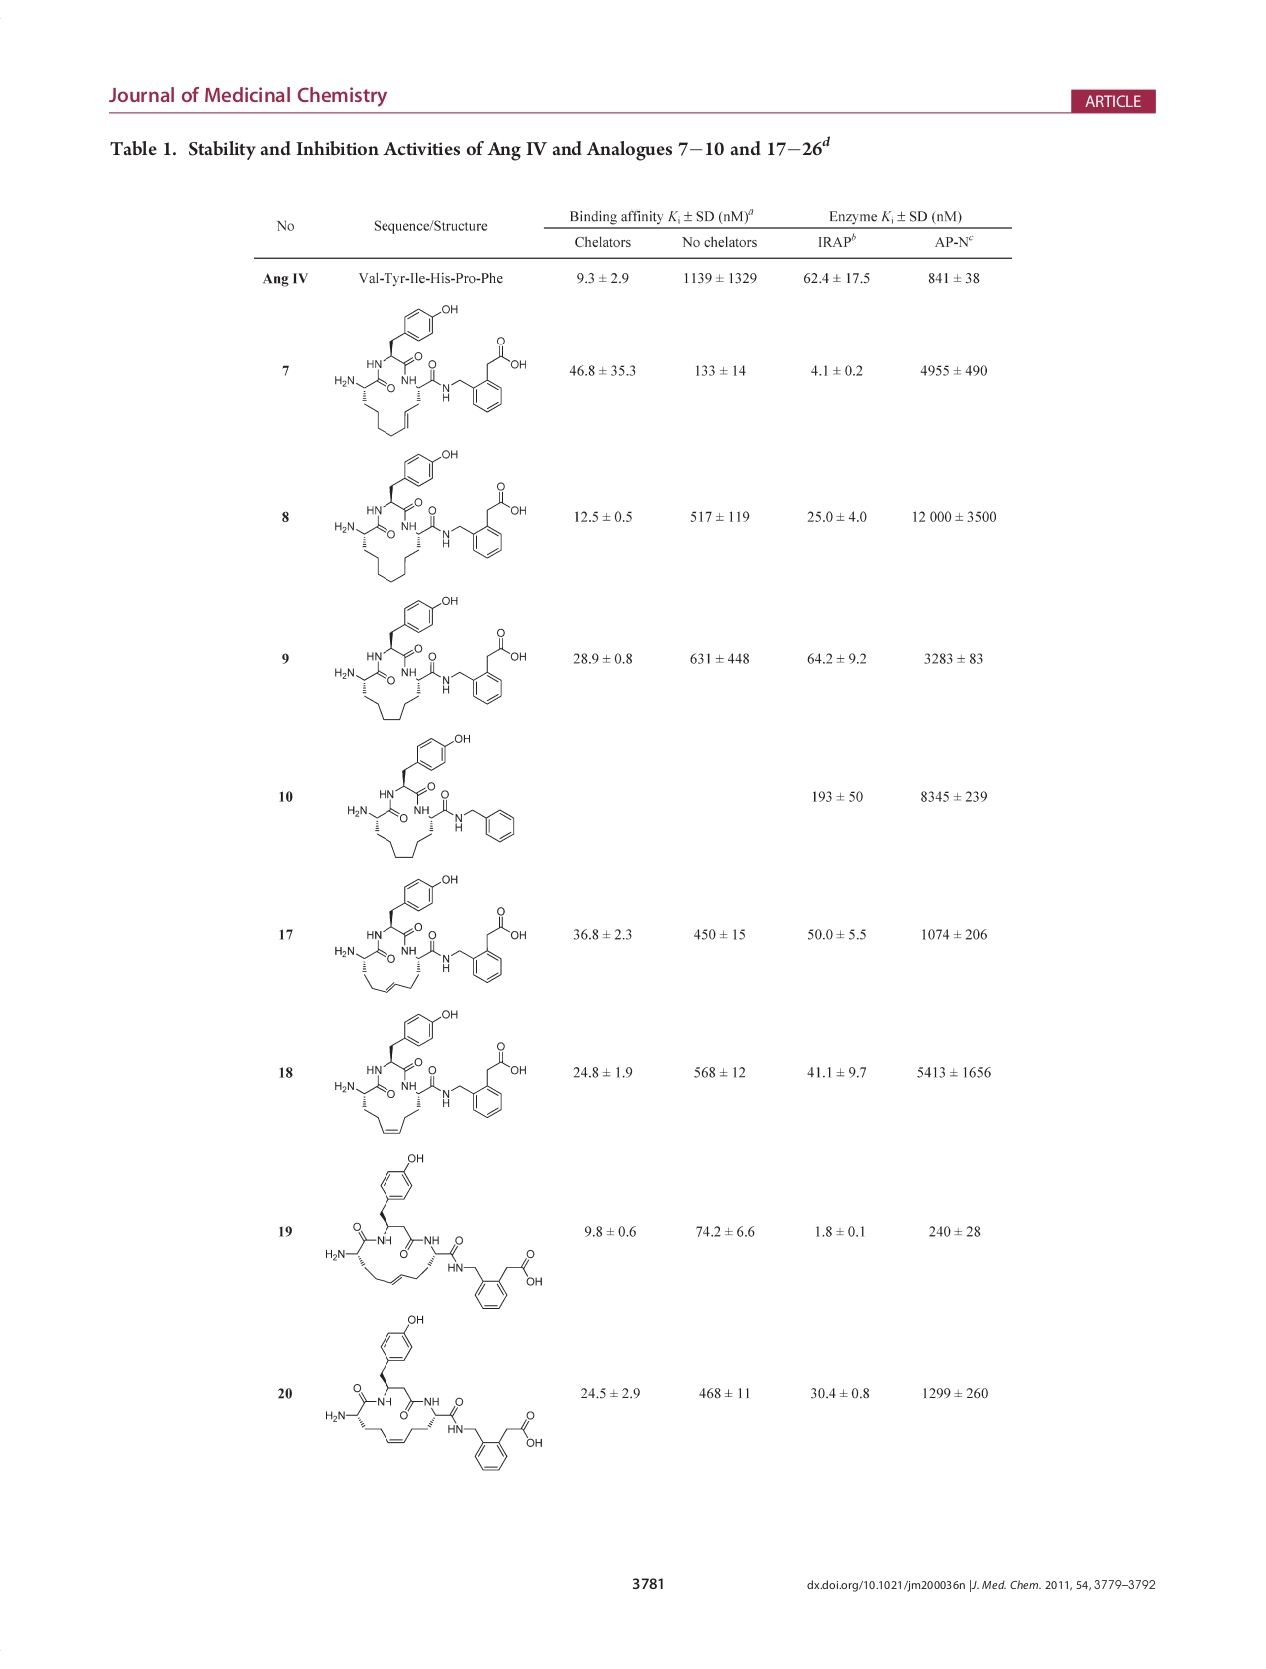exist_molecular: (322, 1150, 549, 1314), (323, 1313, 548, 1474), (331, 299, 529, 440), (331, 446, 531, 585), (331, 1005, 531, 1137), (332, 594, 529, 722), (331, 871, 533, 993), (344, 731, 520, 862)
